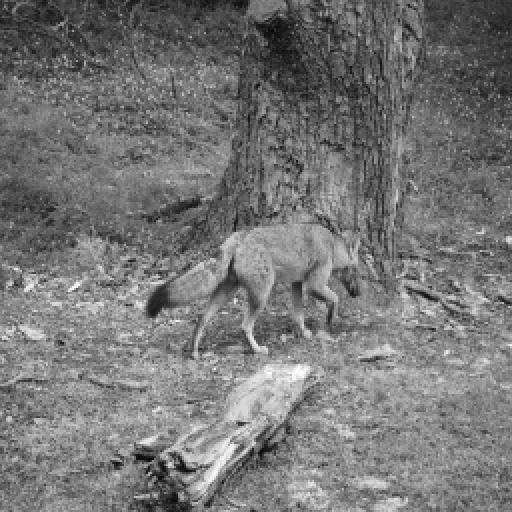zorro: (148, 224, 358, 356)
